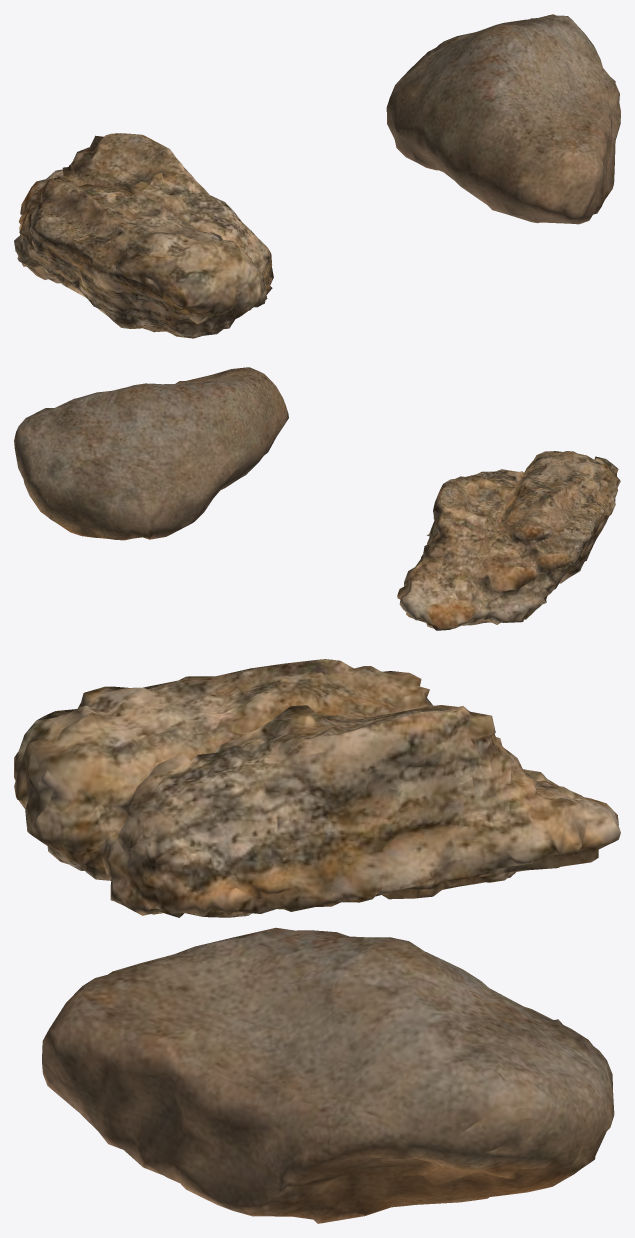
Rendered from rocks_cluster.glb.
3 renders of one model, top to bottom at view 1: azimuth 30°, elevation 25°; view 2: azimuth 150°, elevation 25°; view 3: azimuth 270°, elevation 25°, orthographic. The views are drawn at different scales.
Parts seen in each view (by area): view 1: namaqualand_rocks_01_a; view 2: namaqualand_rocks_01_a; view 3: namaqualand_rocks_01_a.
Part boxes in pixels (bbox=[...]): namaqualand_rocks_01_a: bbox=[14, 14, 620, 338]; namaqualand_rocks_01_a: bbox=[14, 367, 620, 630]; namaqualand_rocks_01_a: bbox=[14, 659, 620, 1223].
Size of the model in its own units: 1.06 by 0.2512 by 0.5838.
Materials: 1 (1 with a texture image).
